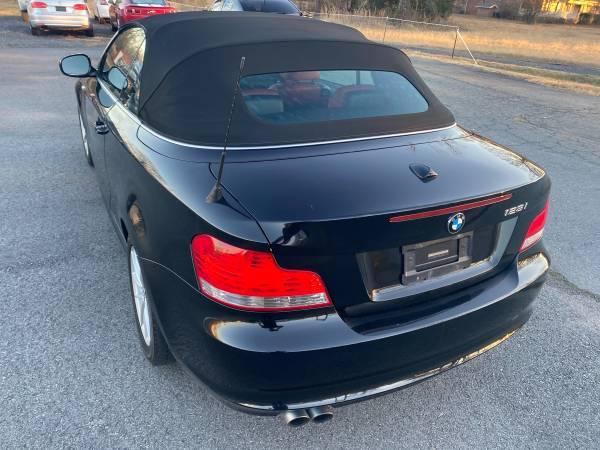Front_Left_Door: (81, 77, 118, 210)
Front_Left_Window: (96, 26, 148, 111)
Left_Taillight: (189, 232, 335, 313)
Rear_Bumper: (142, 235, 553, 412)
Rear_Fender: (106, 104, 274, 293)
Rear_Windshield: (242, 69, 435, 145)
Right_Taillight: (519, 191, 551, 245)
Roof: (126, 9, 457, 148)
Tailgate: (207, 132, 548, 316)
Wheel: (126, 246, 167, 357)
